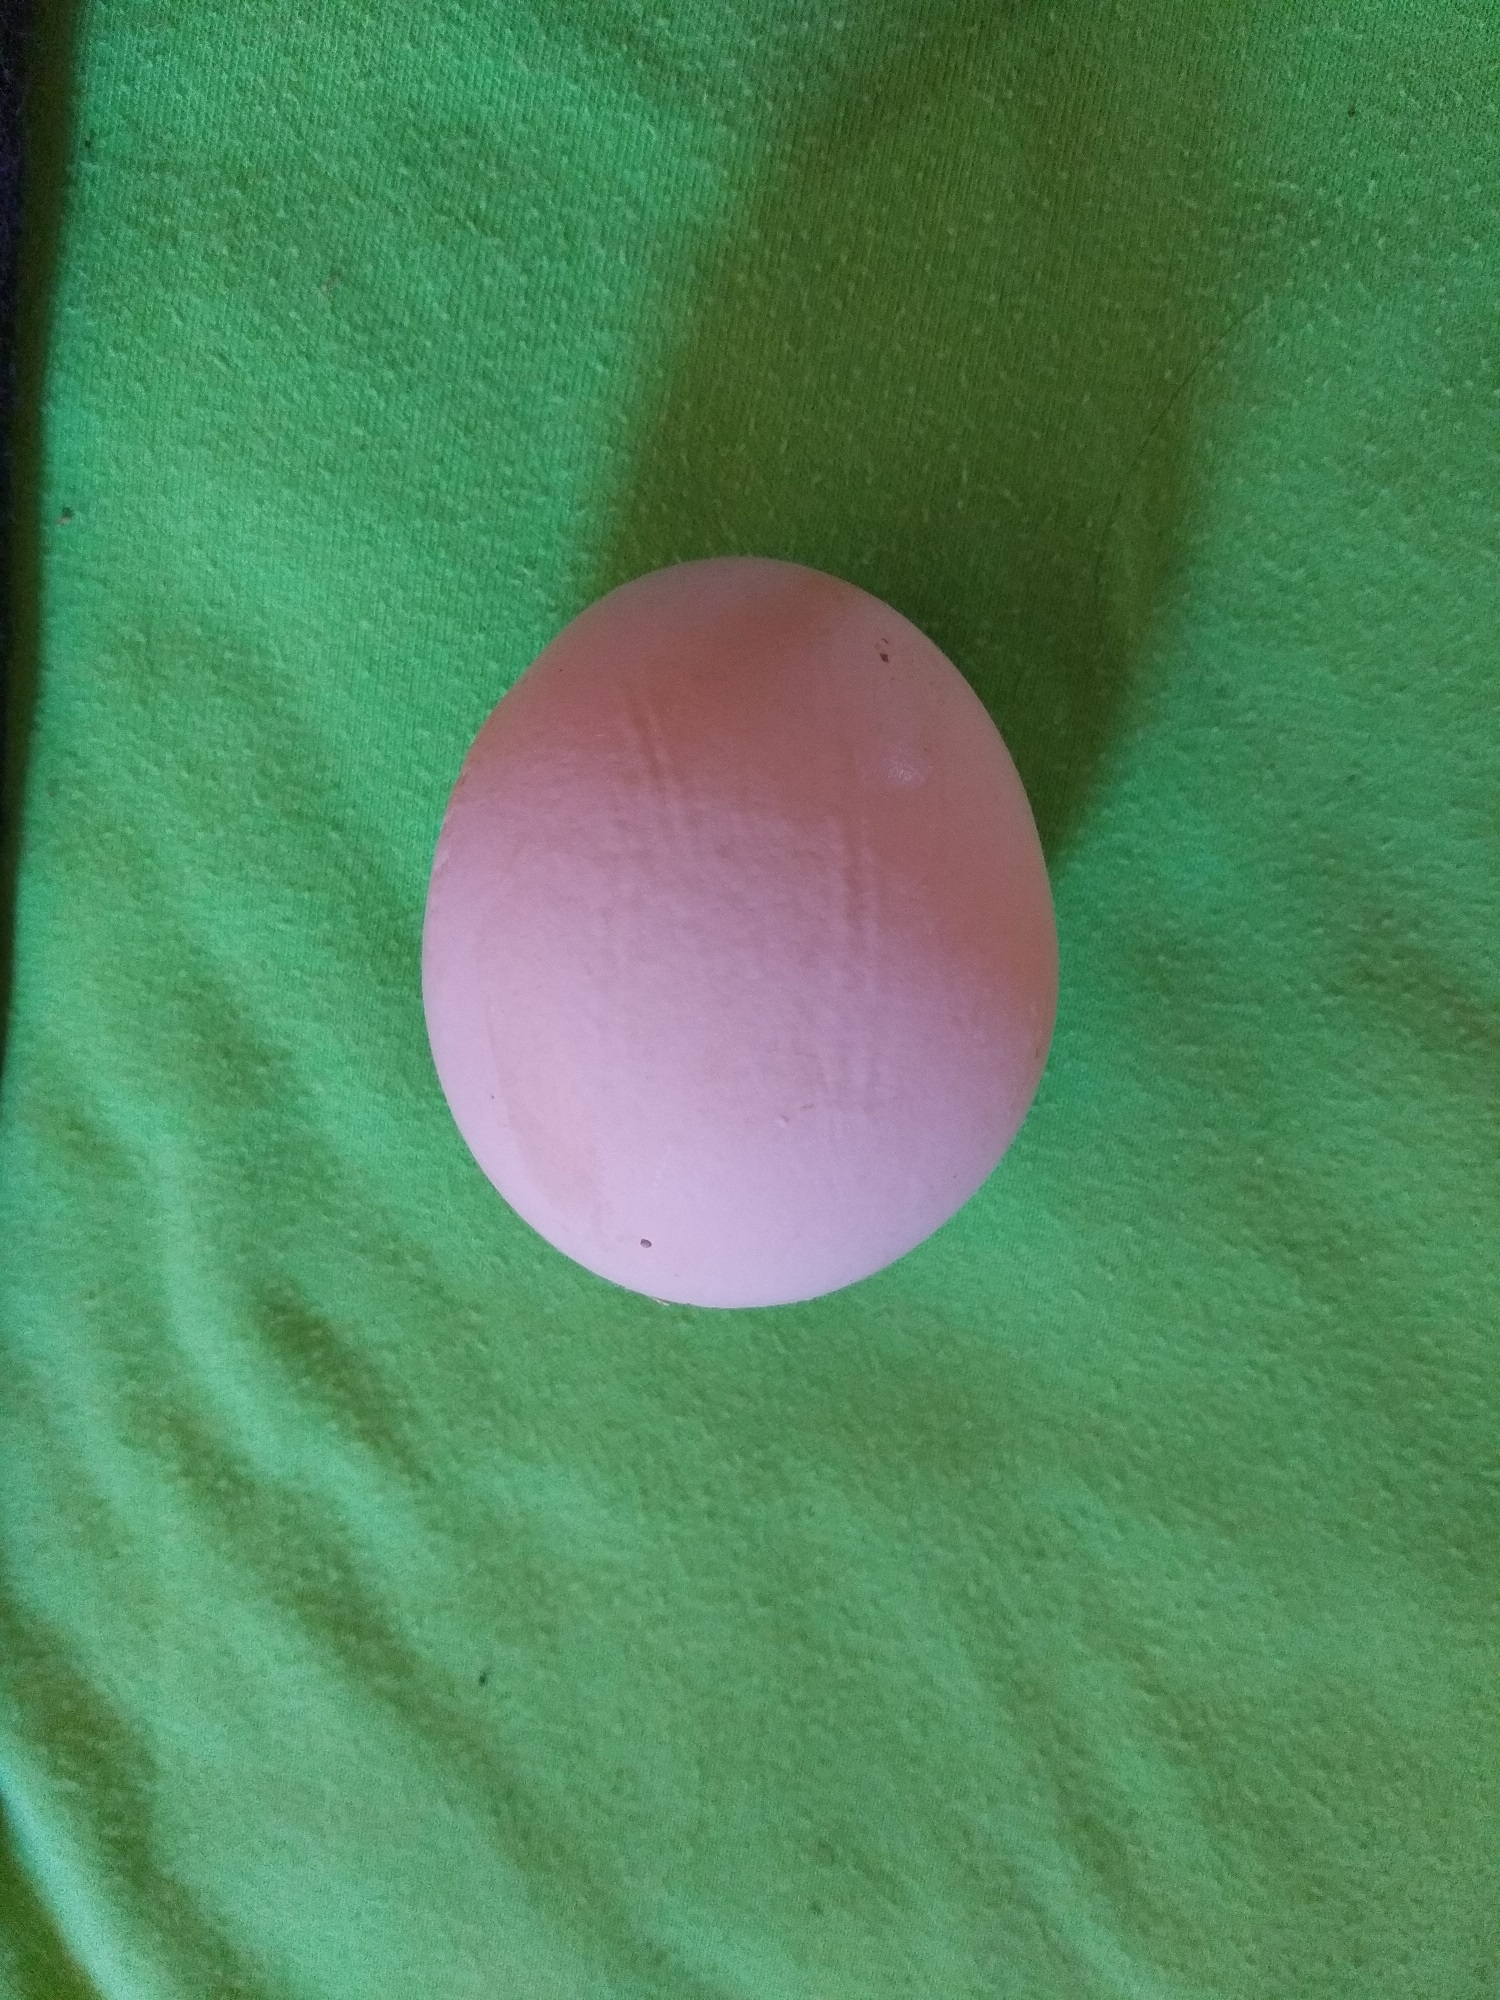Female: (413, 550, 1062, 1315)
